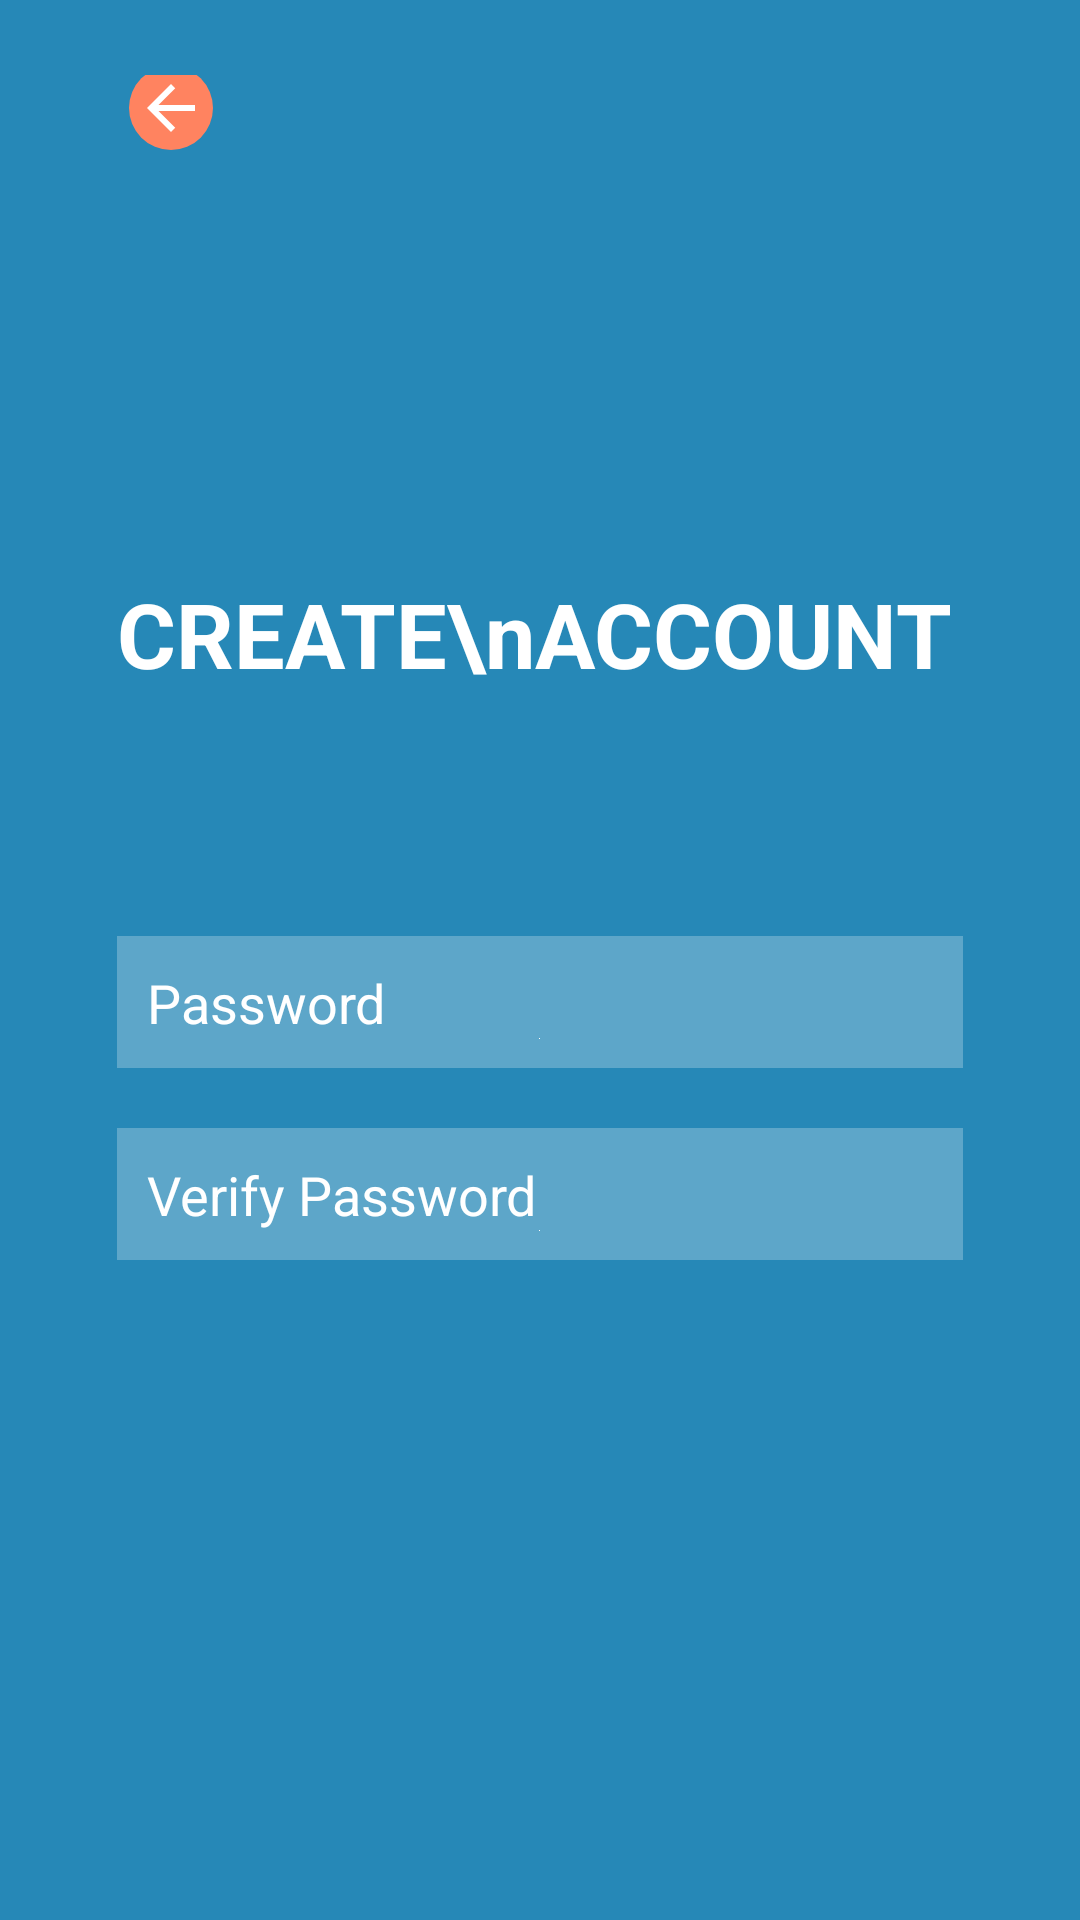

Where icons sit on this 1080px×1920px app screen, as (x1, y1, x2, y2):
back: (129, 75, 213, 150)
